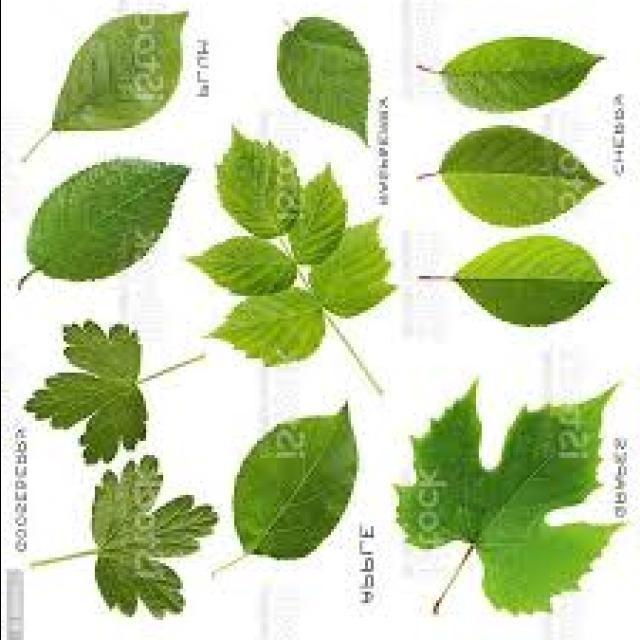leaves: (188, 131, 394, 391), (397, 388, 616, 611), (32, 456, 216, 616), (26, 325, 202, 461), (28, 160, 188, 281), (426, 126, 600, 228), (233, 409, 355, 554), (439, 236, 606, 326), (53, 15, 182, 130), (437, 38, 599, 111), (278, 19, 369, 140)
